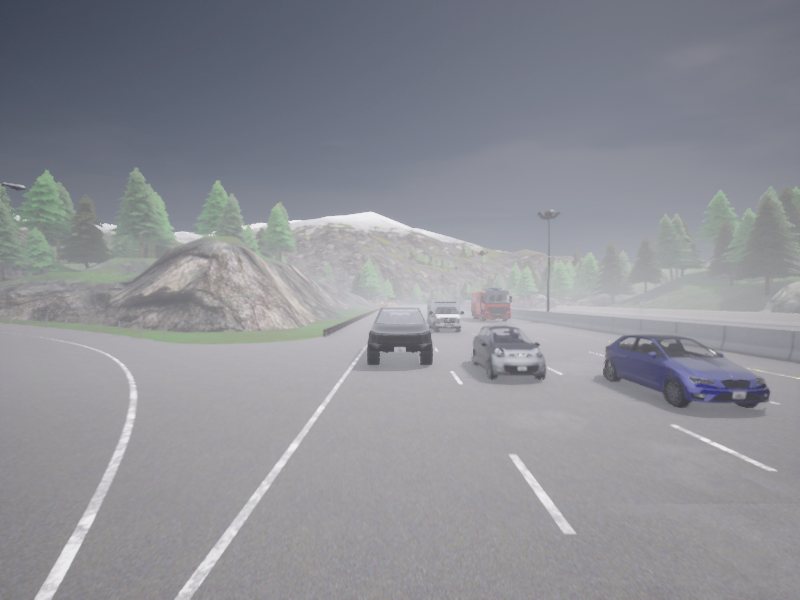vehicle: (604, 334, 770, 406), (472, 326, 545, 378), (367, 308, 432, 364), (471, 287, 511, 321), (427, 300, 463, 332), (466, 297, 470, 304), (460, 301, 463, 304)
